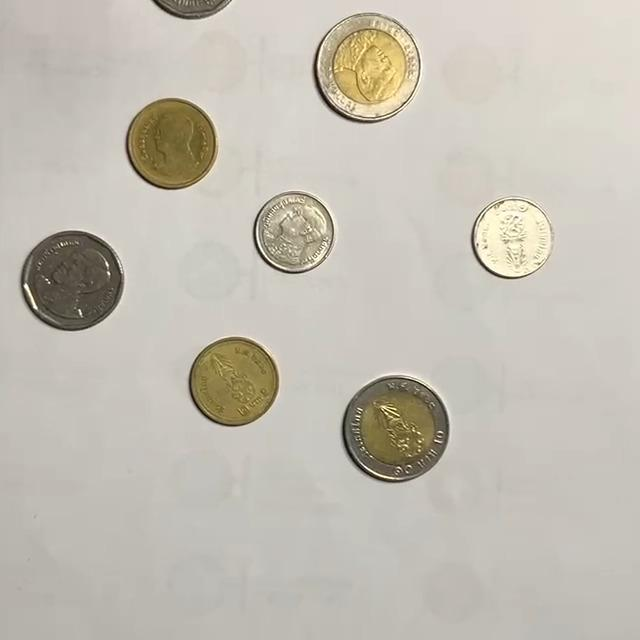1-baht: (472, 196, 557, 279), (254, 191, 337, 274)
10-baht: (343, 376, 452, 482), (316, 13, 423, 120)
2-baht: (126, 97, 220, 189), (190, 336, 280, 425)
5-baht: (22, 229, 127, 330)
